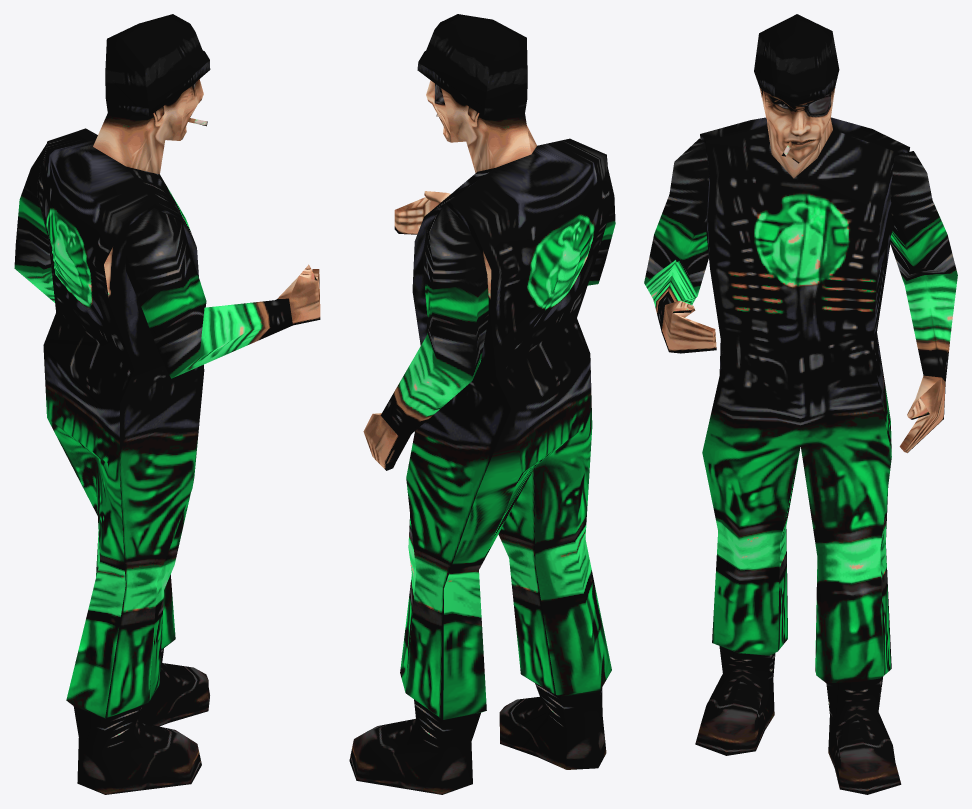
File: demo2_green.glb
The picture shows the model from 3 angles, left to right: view 1: azimuth 30°, elevation 25°; view 2: azimuth 150°, elevation 25°; view 3: azimuth 270°, elevation 25°; orthographic projection. The views are drawn at different scales.
Parts seen in each view (by area): view 1: demo2; view 2: demo2; view 3: demo2.
Boxes of the visible parts, x1,y1,x2,y2 form: demo2: (14,14,320,794); demo2: (349,14,615,794); demo2: (644,14,957,794).
Size of the model in its own units: 24.4 by 74.36 by 28.94.
Materials: 1 (1 with a texture image).
